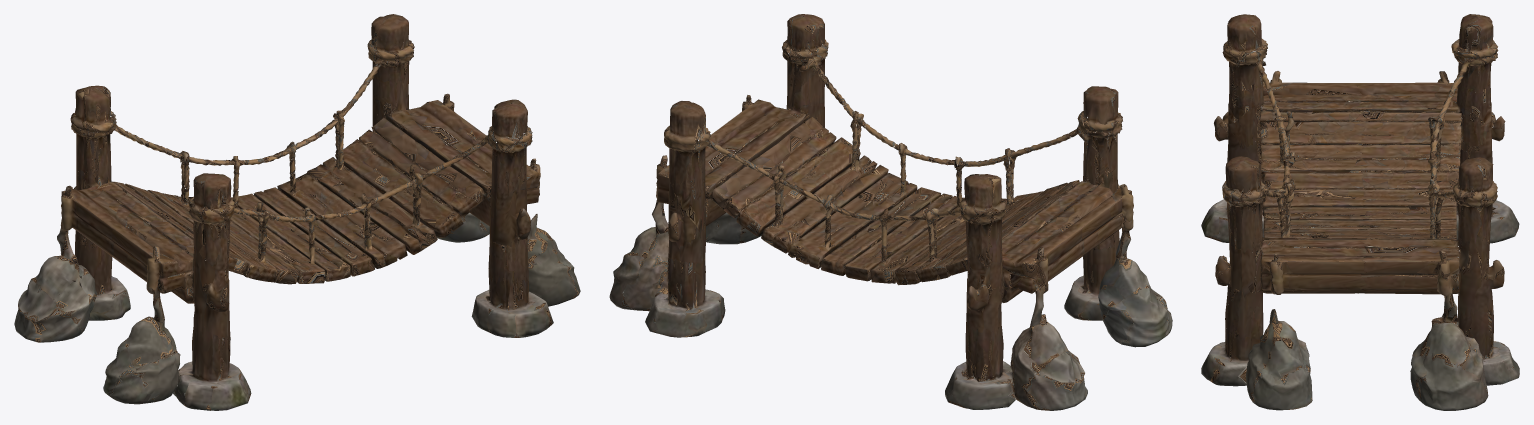
File: bridge.glb
The picture shows the model from 3 angles, left to right: view 1: azimuth 30°, elevation 25°; view 2: azimuth 150°, elevation 25°; view 3: azimuth 270°, elevation 25°; orthographic projection. The views are drawn at different scales.
Visible parts, largest first — view 1: Ponte_MOBILE; view 2: Ponte_MOBILE; view 3: Ponte_MOBILE.
Part boxes in pixels (box(x1,y1,x2,y2)): Ponte_MOBILE: box(14, 14, 580, 410); Ponte_MOBILE: box(609, 14, 1172, 410); Ponte_MOBILE: box(1201, 14, 1519, 410).
Bounding box in the file's own units: 1.89 × 0.8391 × 1.15.
Materials: 1 (1 with a texture image).
